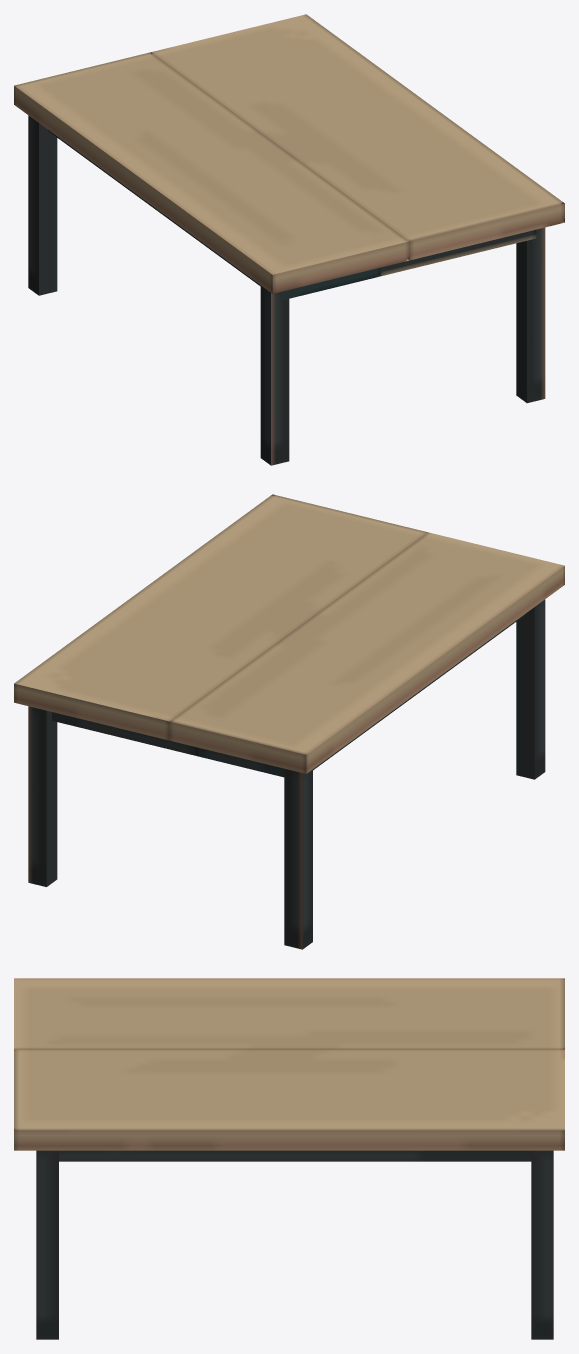
The model's file is table_dining.fbx.
The picture shows the model from 3 angles, top to bottom: view 1: azimuth 30°, elevation 25°; view 2: azimuth 150°, elevation 25°; view 3: azimuth 270°, elevation 25°; orthographic projection. The views are drawn at different scales.
Visible parts, largest first — view 1: table; view 2: table; view 3: table.
Boxes of the visible parts, x1,y1,x2,y2 form: table: [14, 14, 564, 465]; table: [14, 494, 564, 949]; table: [14, 978, 564, 1339].
Bounding box in the file's own units: 200 × 131 × 306.
